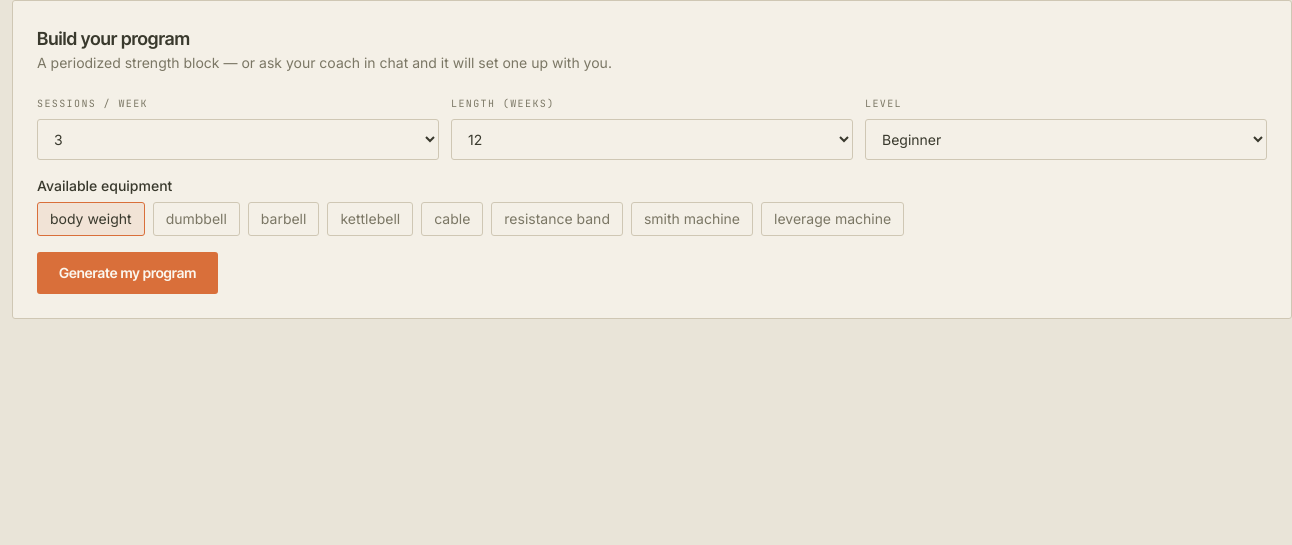
it: StrengthView (M3) › shows the setup form when no program exists and creates one
The width and height of the screenshot is (1292, 545).
Click the button "Generate my program" at (128, 273), box [37, 252, 218, 294]
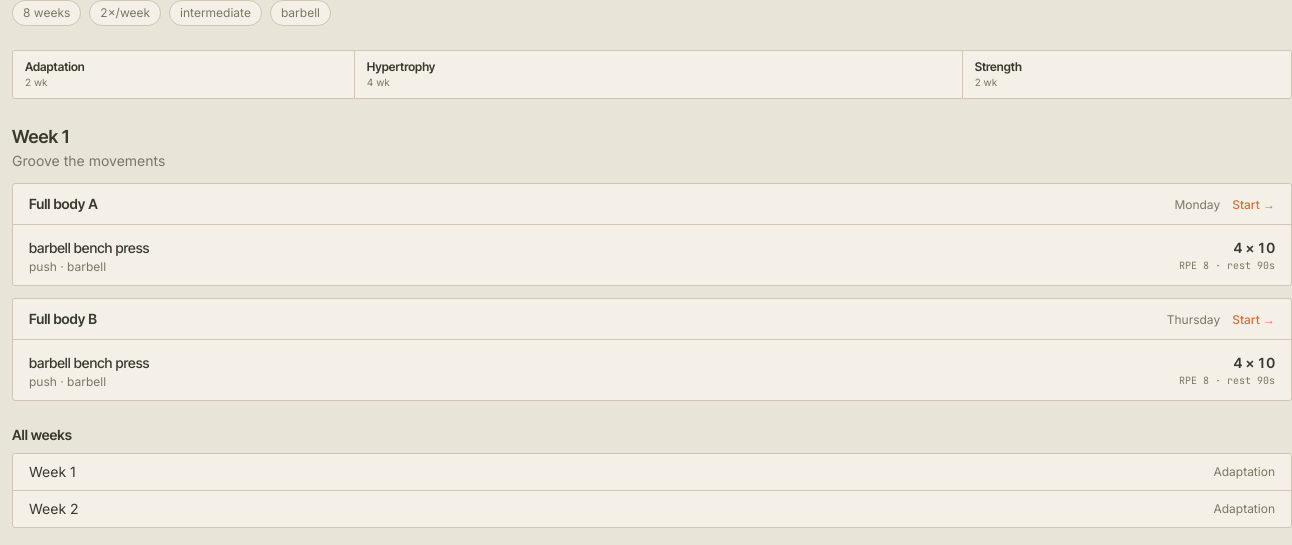
Now the text "Full body A" is shown, box [29, 194, 98, 214]
